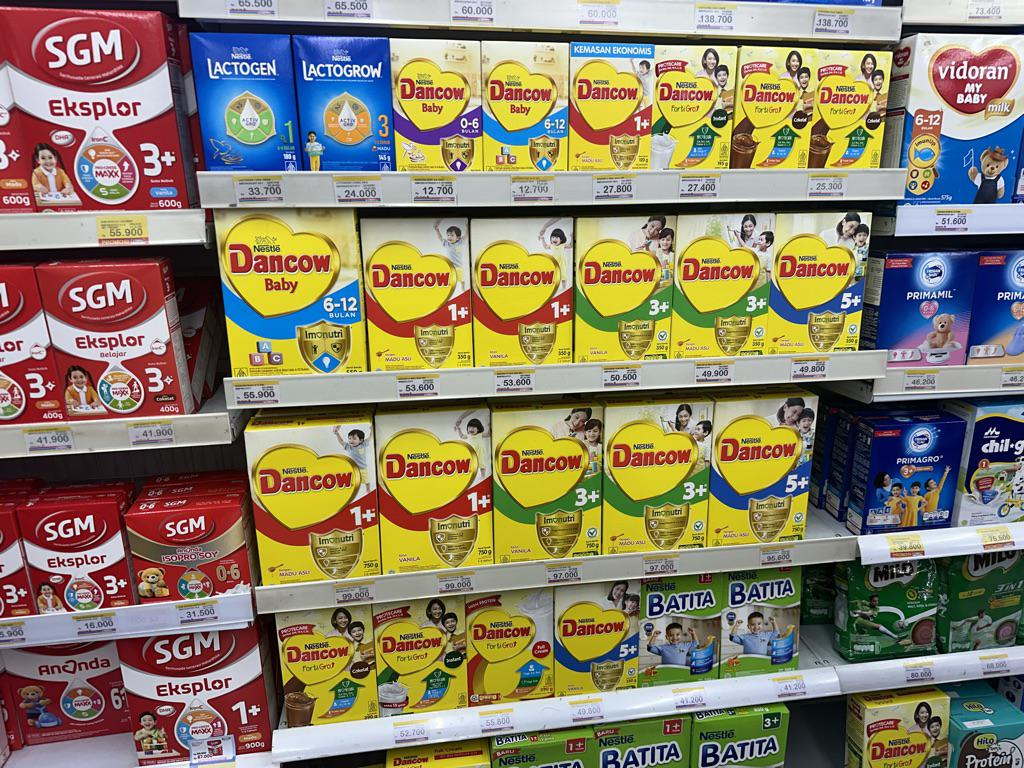DANCOW 1+ Madu Advn ExcNutr 12x800g ID_REDESIGN3: (247, 423, 381, 579)
DANCOW 1+ Madu Advn ExcNutr 24x400g N1 ID_REDESIGN3: (363, 218, 474, 369)
DANCOW 1+ Madu Advn ExcNutr 40x200g ID_REDESIGN3: (570, 59, 653, 171)
DANCOW 1+ Van Advn ExcNutr 12x800g N1 ID_REDESIGN3: (377, 412, 494, 570)
DANCOW 1+ Van Advn ExcNutr 24x400g ID_REDESIGN3: (472, 216, 574, 365)
DANCOW 3+ Madu Advn ExcNutr 12x800g ID_REDESIGN3: (601, 402, 711, 552)
DANCOW 3+ Madu Advn ExcNutr 24x400g ID_REDESIGN3: (673, 215, 770, 358)
DANCOW 3+ Van Advn ExcNutr 12x800g ID_REDESIGN3: (493, 409, 603, 560)
DANCOW 3+ Van Advn ExcNutr 24x400g ID_REDESIGN3: (573, 218, 674, 361)
DANCOW 5+ Madu Advn ExcNutr 12x800g ID_REDESIGN3: (710, 396, 814, 544)
DANCOW 5+ Madu Advn ExcNutr 24x400g ID_REDESIGN3: (770, 213, 868, 354)
LACTOGEN 1 Happynutri 40x180g N1 ID_REDESIGN2: (193, 32, 298, 171)
LACTOGROW 3 Happynutri Honey 40x180g N1 ID_REDESIGN2: (295, 35, 397, 170)
